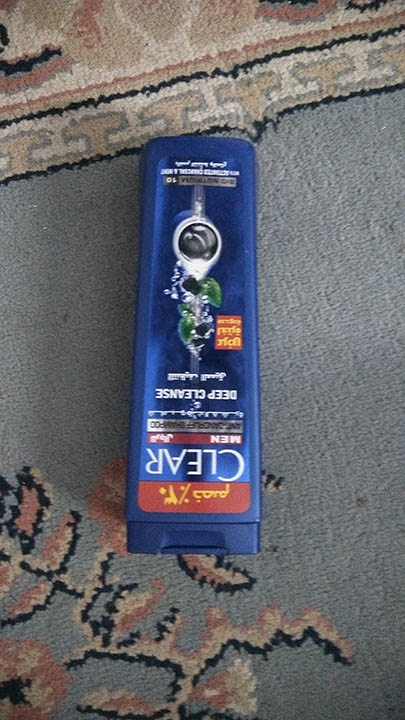Shampoo-Clear 4.7$: (125, 129, 272, 557)
